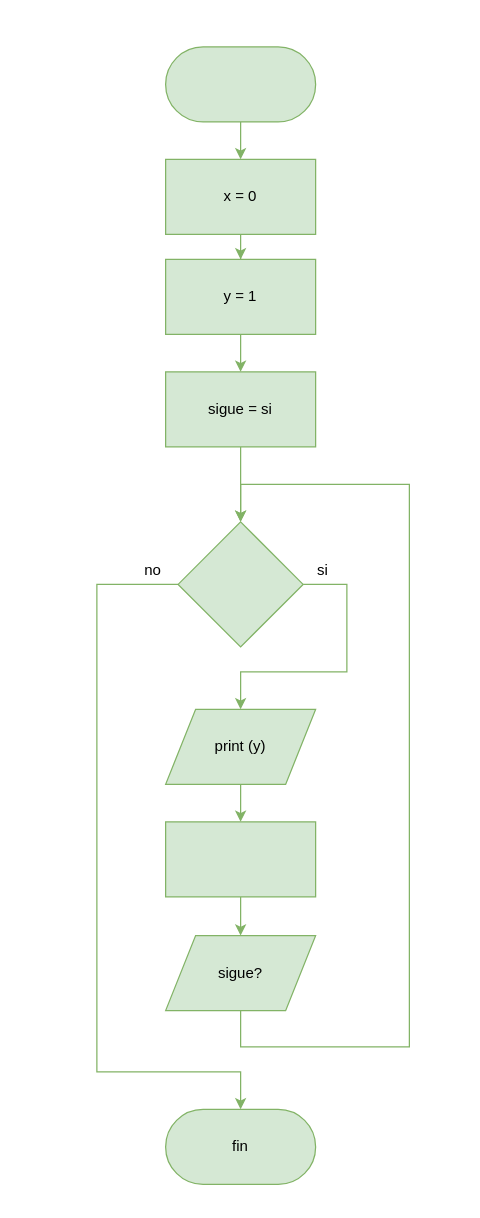
This 480x1218 diagram has some shape labels left out. Each missing label, with the centre of its shape:
"if sigue == si" goes at (240,584).
"inicio" goes at (240,84).
"x, y = y, x+y" goes at (240,859).
